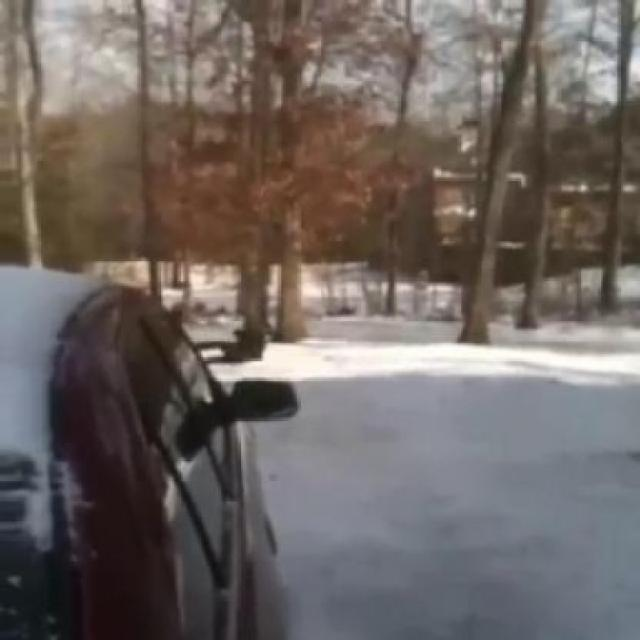fall: (189, 316, 269, 367)
